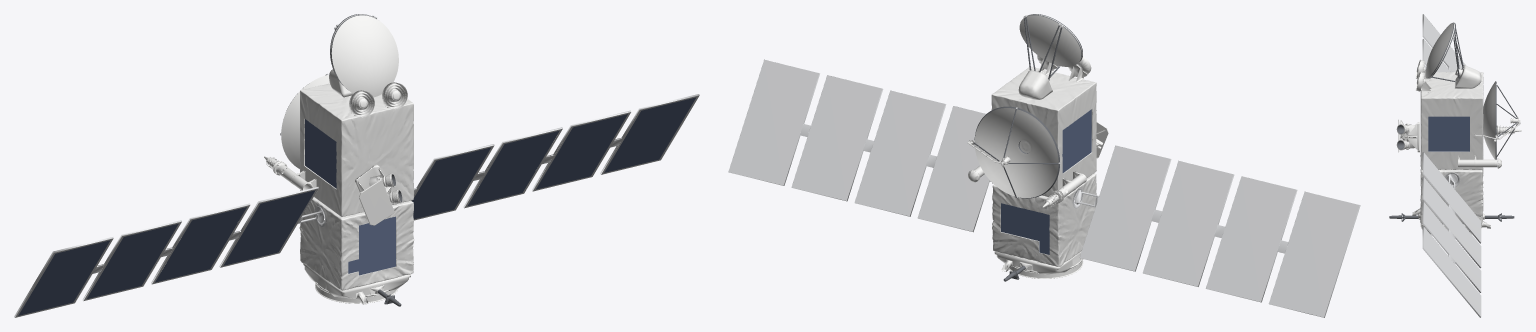
Rendered from satelite.glb.
The picture shows the model from 3 angles, left to right: view 1: azimuth 30°, elevation 25°; view 2: azimuth 150°, elevation 25°; view 3: azimuth 270°, elevation 25°; orthographic projection. The views are drawn at different scales.
Visible parts, largest first — view 1: corpo, asa-esq, asa-dir; view 2: asa-esq, asa-dir, corpo; view 3: corpo, asa-dir, asa-esq.
Part boxes in pixels (bbox=[...]): corpo: bbox=[264, 14, 414, 306]; asa-esq: bbox=[14, 187, 324, 317]; asa-dir: bbox=[411, 94, 699, 220]; asa-esq: bbox=[1074, 145, 1360, 317]; asa-dir: bbox=[728, 59, 990, 232]; corpo: bbox=[967, 14, 1108, 281]; corpo: bbox=[1389, 22, 1521, 235]; asa-dir: bbox=[1422, 152, 1481, 317]; asa-esq: bbox=[1422, 14, 1465, 72].
Size of the model in its own units: 10 by 3.98 by 2.39.
